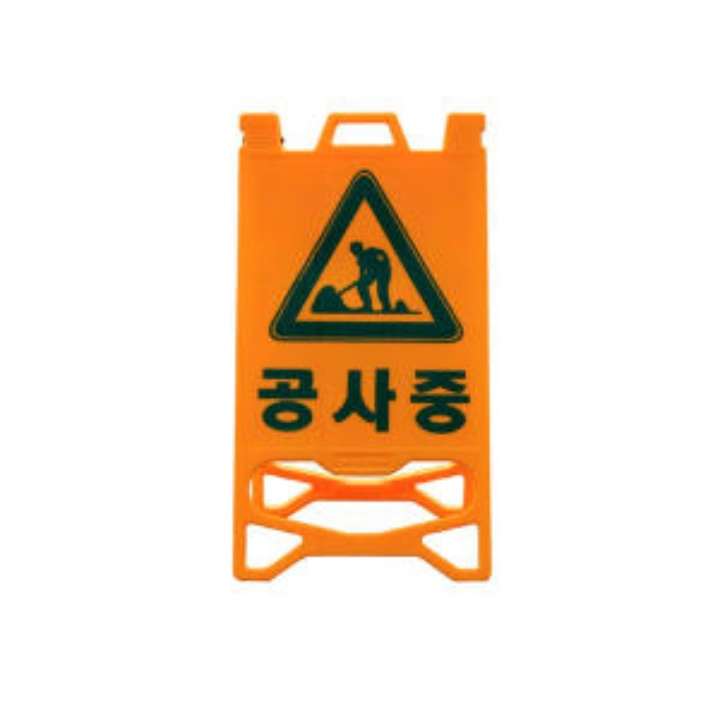const: (295, 221, 429, 321)
